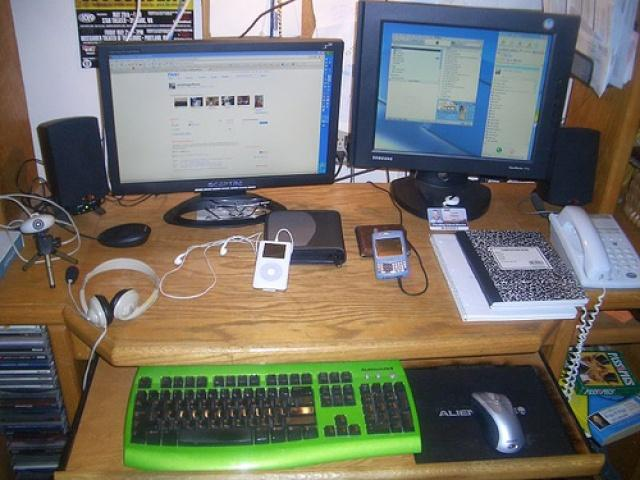AIO PC-Monitor-TV: (348, 0, 581, 181), (95, 39, 344, 195)
